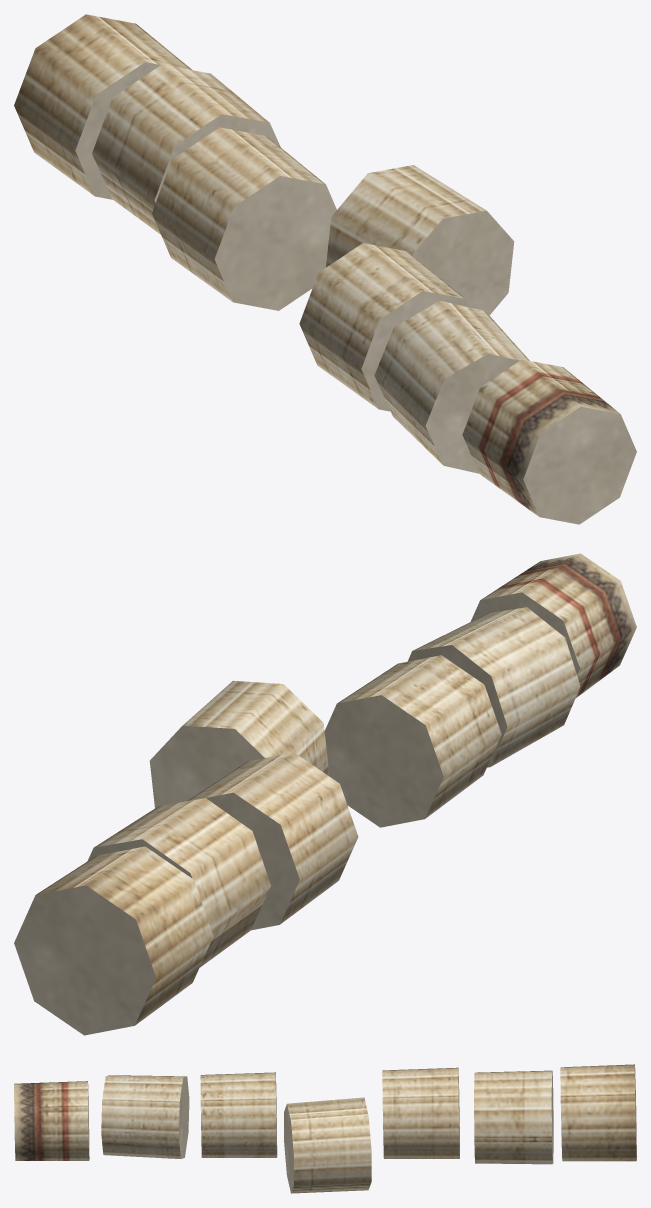
The model's file is column_fallen_c.dae.
3 views of the same model, one above another, from view 1: azimuth 30°, elevation 25°; view 2: azimuth 150°, elevation 25°; view 3: azimuth 270°, elevation 25° (orthographic). The views are drawn at different scales.
Parts seen in each view (by area): view 1: column_fallen_c; view 2: column_fallen_c; view 3: column_fallen_c.
Part boxes in pixels (box(x1,y1,x2,y2)): column_fallen_c: box(14, 14, 636, 524); column_fallen_c: box(14, 553, 636, 1035); column_fallen_c: box(14, 1064, 636, 1193).
Size of the model in its own units: 3.18 by 11.68 by 1.94.
